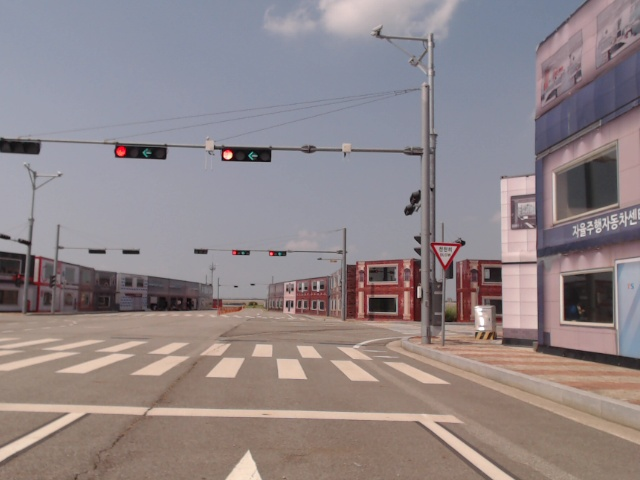left_green_4: (114, 145, 166, 160), (221, 148, 270, 162), (269, 250, 286, 257), (232, 250, 249, 256)
